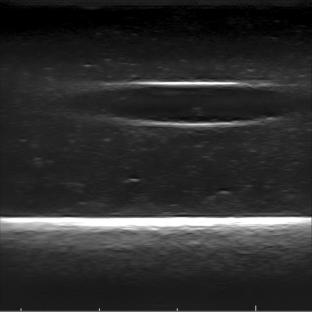vessel: (69, 81, 293, 128)
